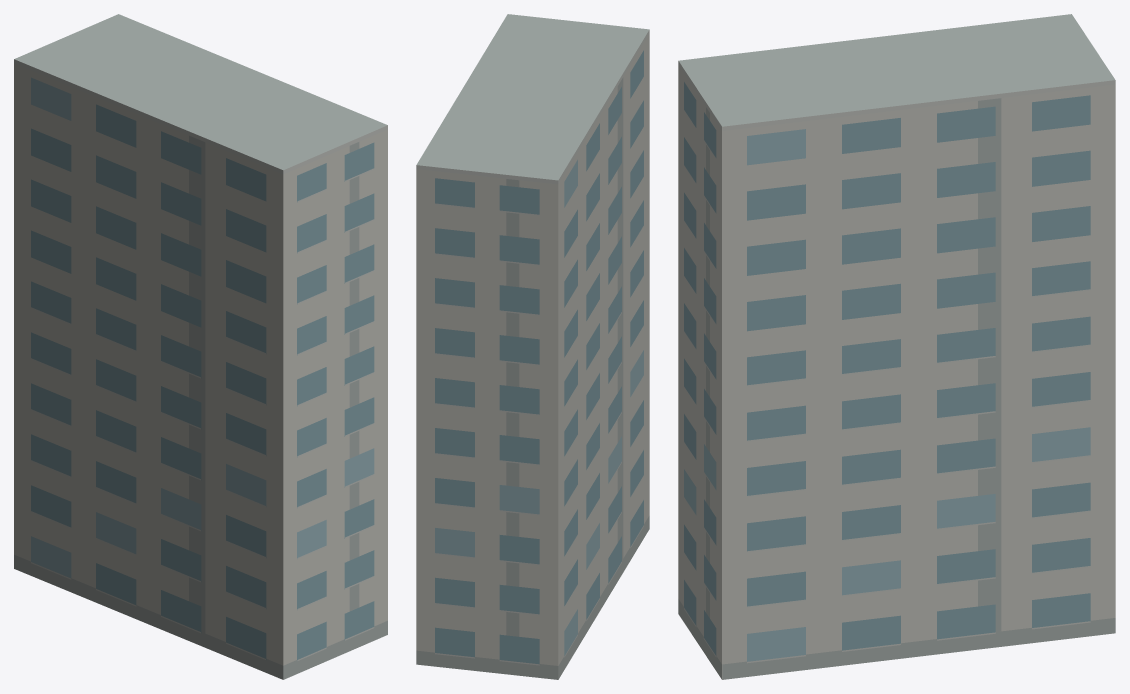
File: residential-442fef7b-f8a9-4f6d-9a56-3b260f16b44d.glb
3 renders of one model, left to right at view 1: azimuth 30°, elevation 25°; view 2: azimuth 150°, elevation 25°; view 3: azimuth 270°, elevation 25°, orthographic. The views are drawn at different scales.
Parts seen in each view (by area): view 1: residential-442fef7b-f8a9-4f6d-9a56-3b260f16b44d.tmp; view 2: residential-442fef7b-f8a9-4f6d-9a56-3b260f16b44d.tmp; view 3: residential-442fef7b-f8a9-4f6d-9a56-3b260f16b44d.tmp.
Part boxes in pixels (x1,y1,x2,y2): residential-442fef7b-f8a9-4f6d-9a56-3b260f16b44d.tmp: [14, 14, 387, 679]; residential-442fef7b-f8a9-4f6d-9a56-3b260f16b44d.tmp: [416, 14, 649, 679]; residential-442fef7b-f8a9-4f6d-9a56-3b260f16b44d.tmp: [678, 14, 1115, 679].
Bounding box in the file's own units: 13.12 × 30 × 21.5.
